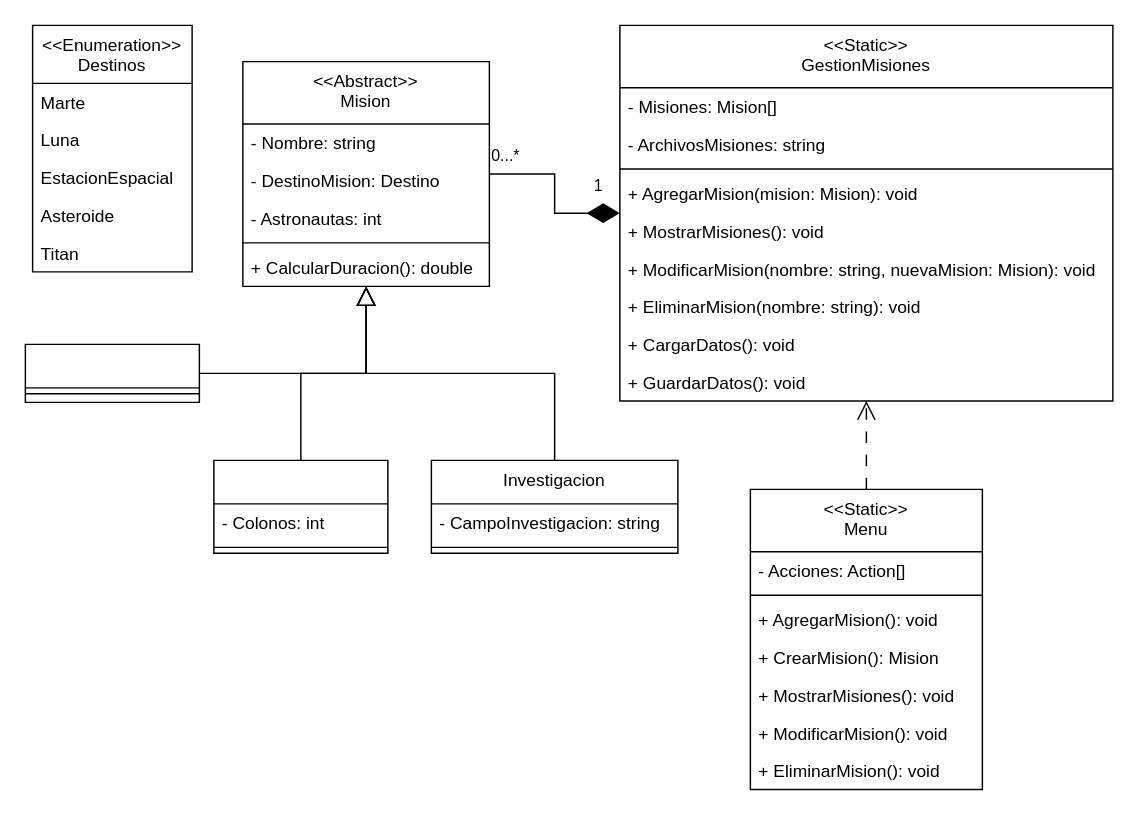
Image size: 1138x819. Some labels were removed from this diagram. Here are the shapes that lost their labels. From the top down, the box of each, then its label:
(24, 343, 199, 402): Exploracion
(212, 459, 388, 553): Colonizacion
